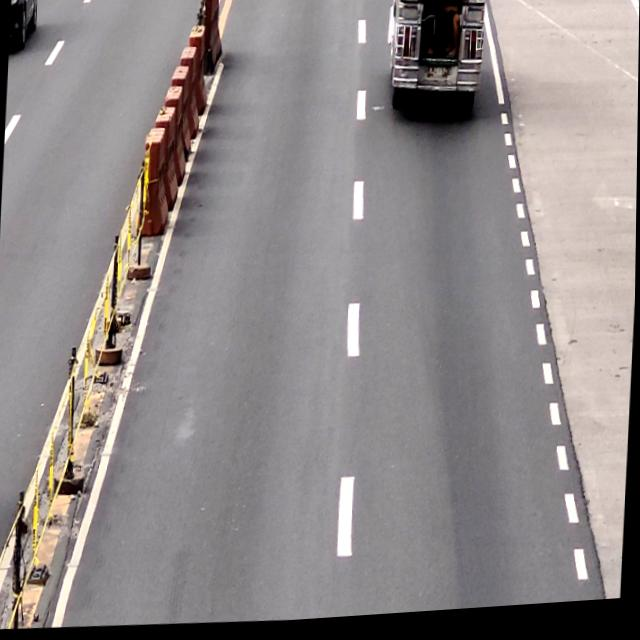Jeep: (387, 0, 489, 122)
License-Plate: (425, 68, 451, 86)
